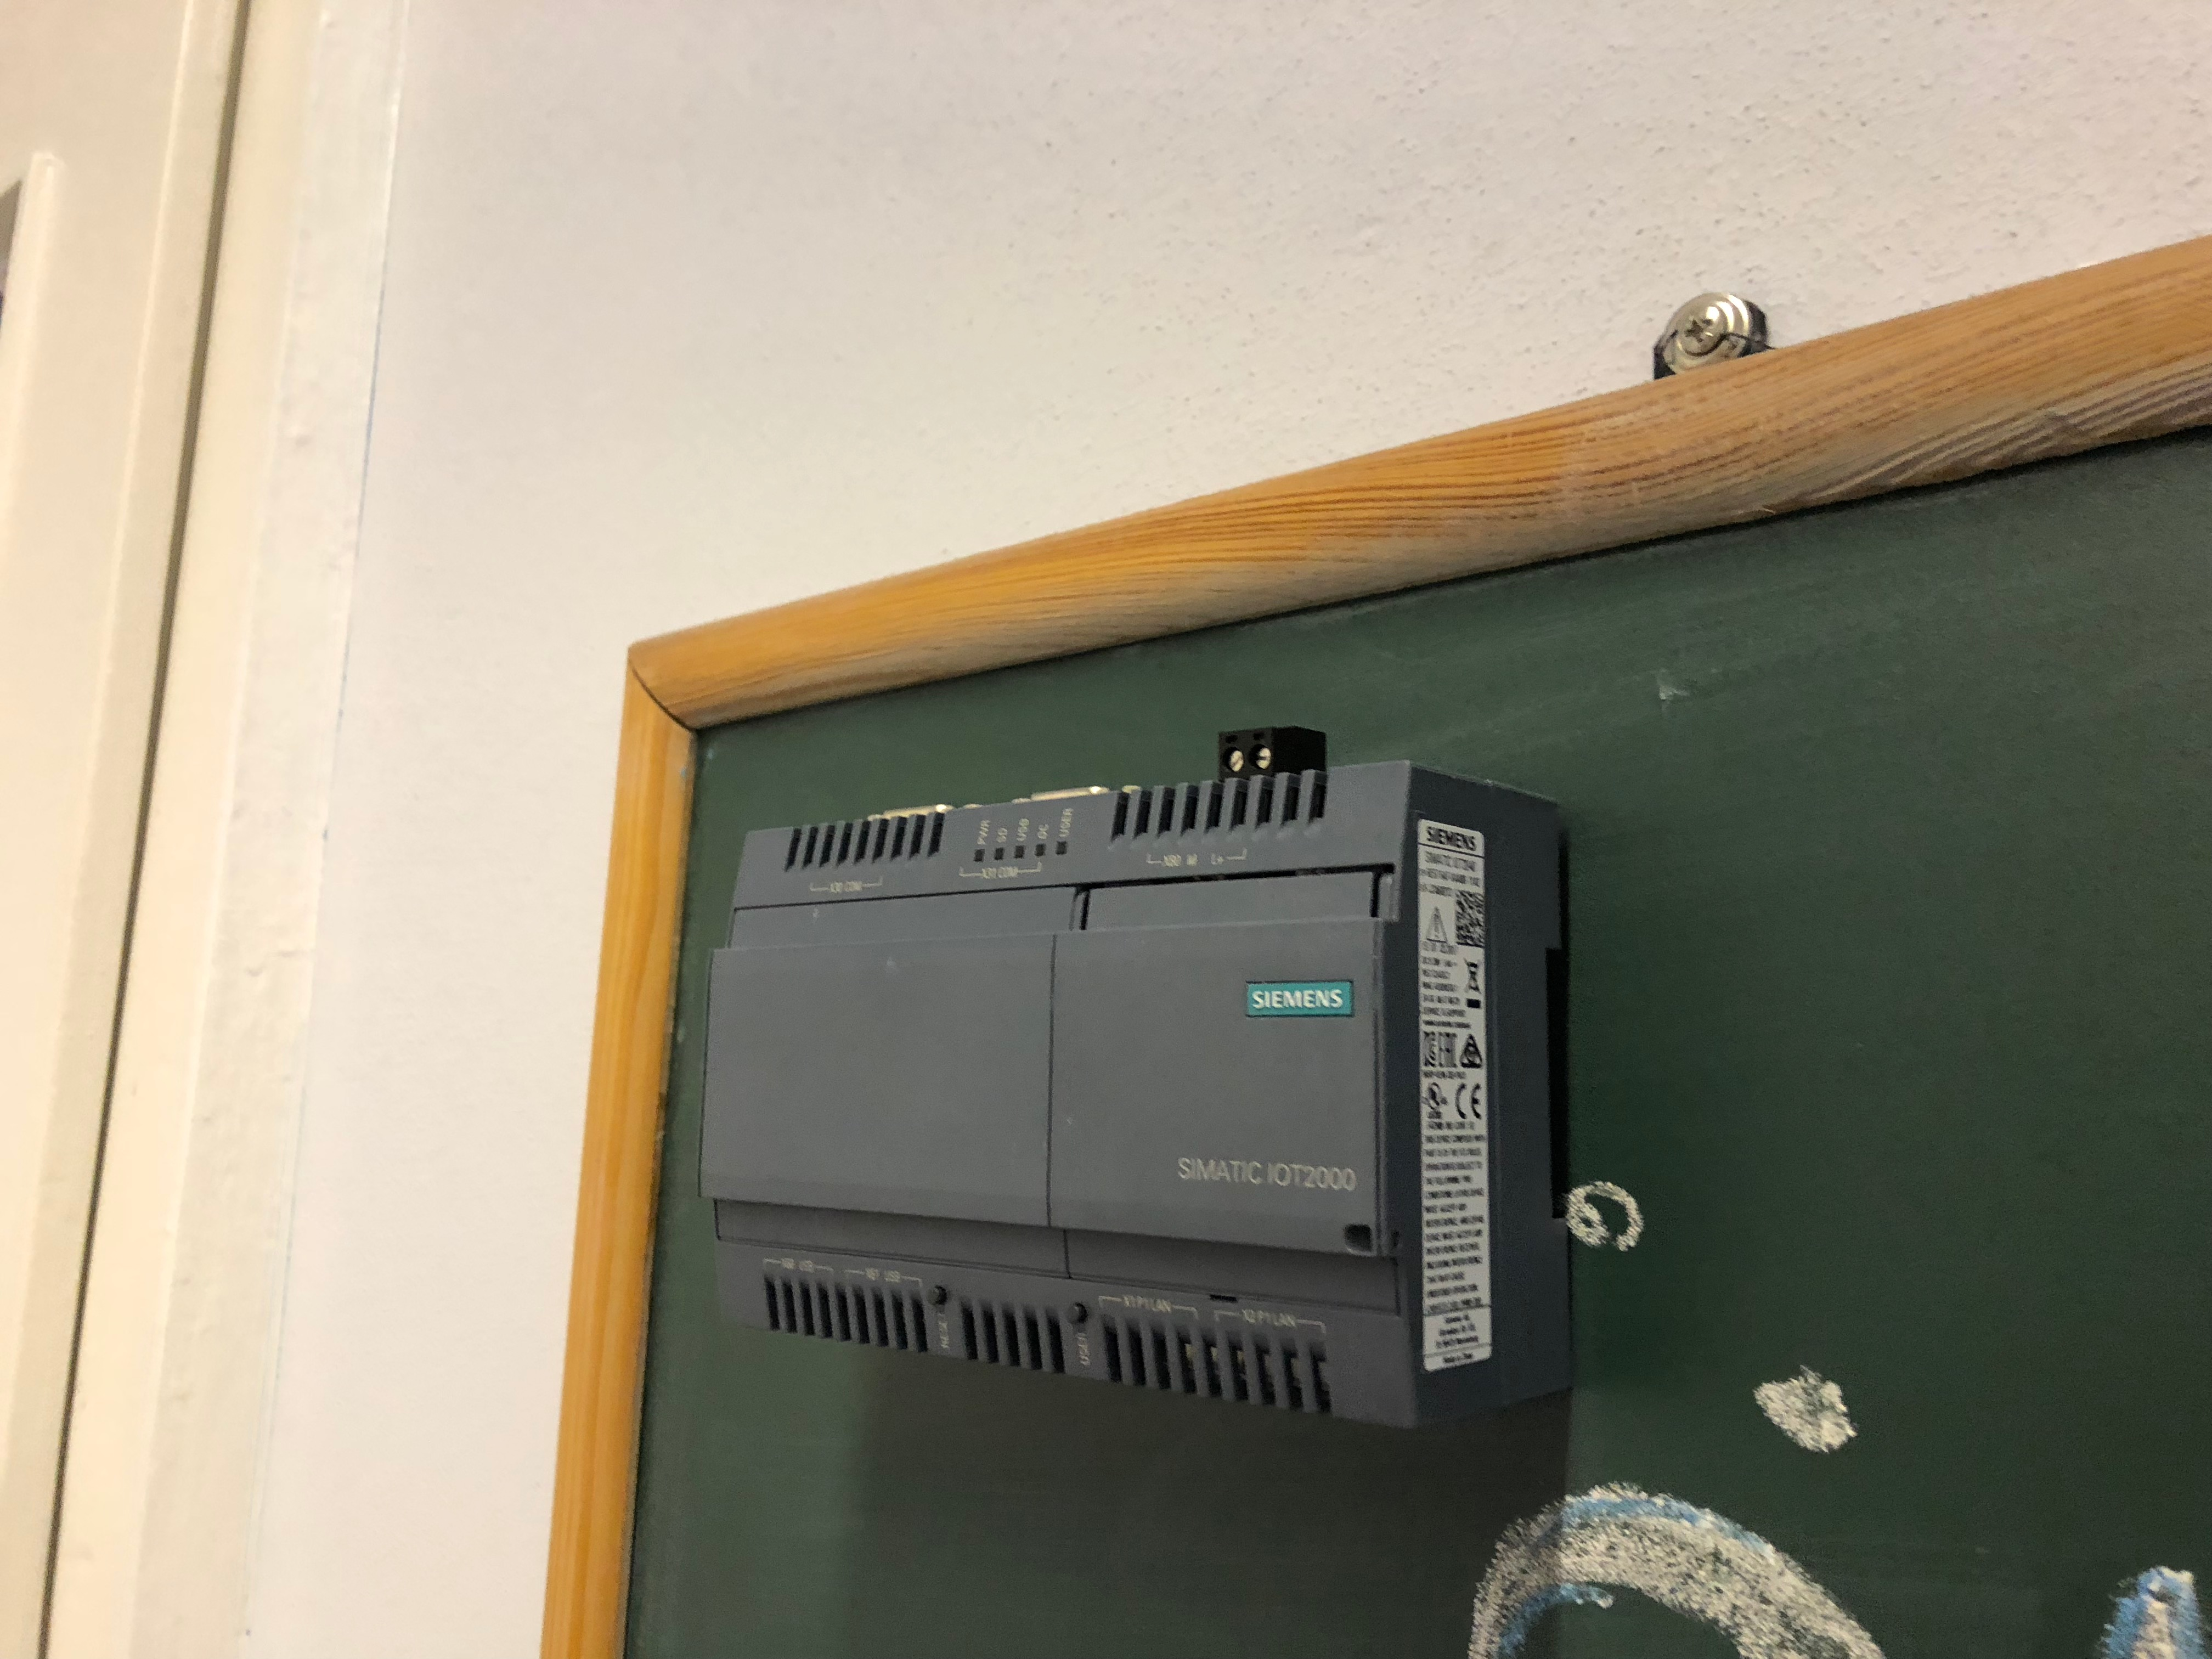device: (697, 725, 1571, 1429)
